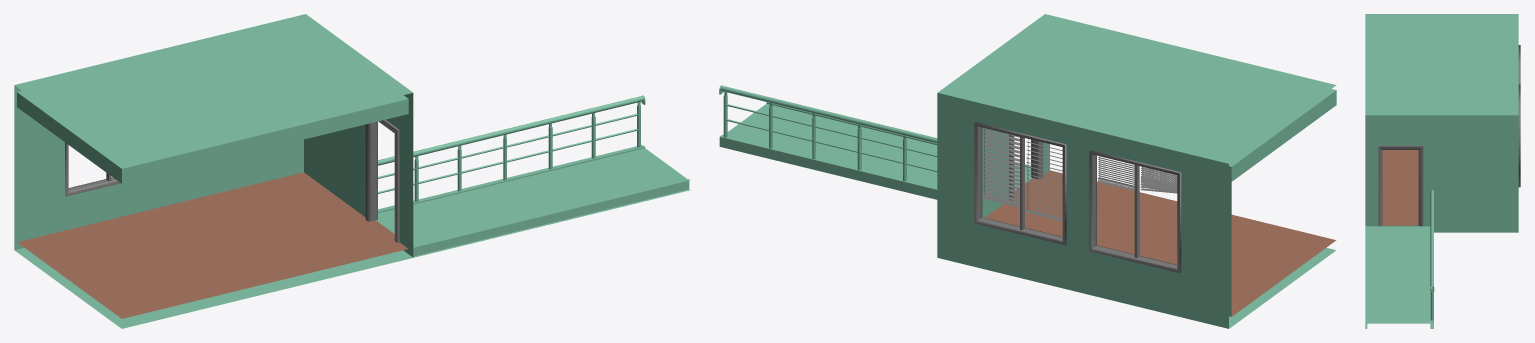
Rendered from SM_geo_Mezzanine.fbx.
3 views of the same model, side by side, from view 1: azimuth 30°, elevation 25°; view 2: azimuth 150°, elevation 25°; view 3: azimuth 270°, elevation 25° (orthographic). The views are drawn at different scales.
Visible parts, largest first — view 1: OfficeShell, MezzanineWalkway; view 2: OfficeShell, MezzanineWalkway, Blinds; view 3: OfficeShell, MezzanineWalkway.
Boxes of the visible parts, x1,y1,x2,y2 form: OfficeShell: [14, 14, 413, 328]; MezzanineWalkway: [376, 95, 690, 257]; OfficeShell: [937, 14, 1336, 328]; MezzanineWalkway: [719, 85, 1032, 199]; Blinds: [982, 128, 1177, 221]; OfficeShell: [1365, 14, 1520, 232]; MezzanineWalkway: [1365, 190, 1434, 328].
Size of the model in its own units: 1190 by 330 by 395.
